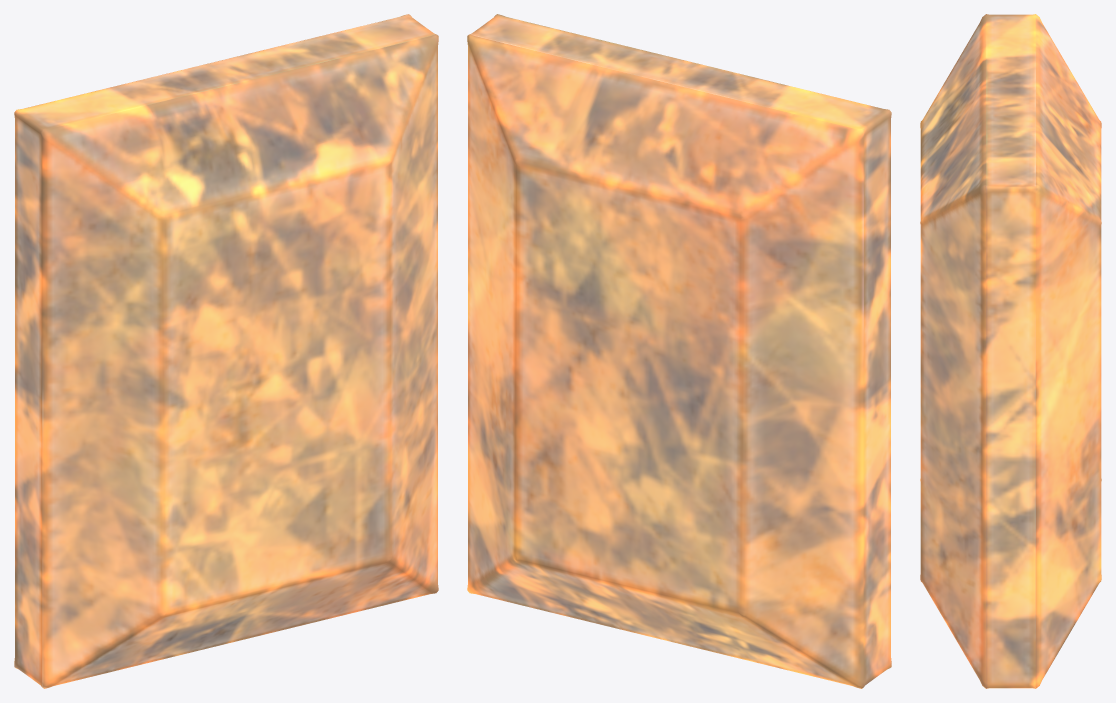
The model's file is Baguette.glb.
The picture shows the model from 3 angles, left to right: view 1: azimuth 30°, elevation 25°; view 2: azimuth 150°, elevation 25°; view 3: azimuth 270°, elevation 25°; orthographic projection. The views are drawn at different scales.
Parts seen in each view (by area): view 1: Plane_Diamond_Master_0; view 2: Plane_Diamond_Master_0; view 3: Plane_Diamond_Master_0.
Boxes of the visible parts, box(x1,y1,x2,y2) form: Plane_Diamond_Master_0: box(14, 14, 438, 688); Plane_Diamond_Master_0: box(467, 14, 891, 688); Plane_Diamond_Master_0: box(920, 14, 1101, 688).
Bounding box in the file's own units: 0.8297 × 1.12 × 0.3656.
1 material, 1 textured.
